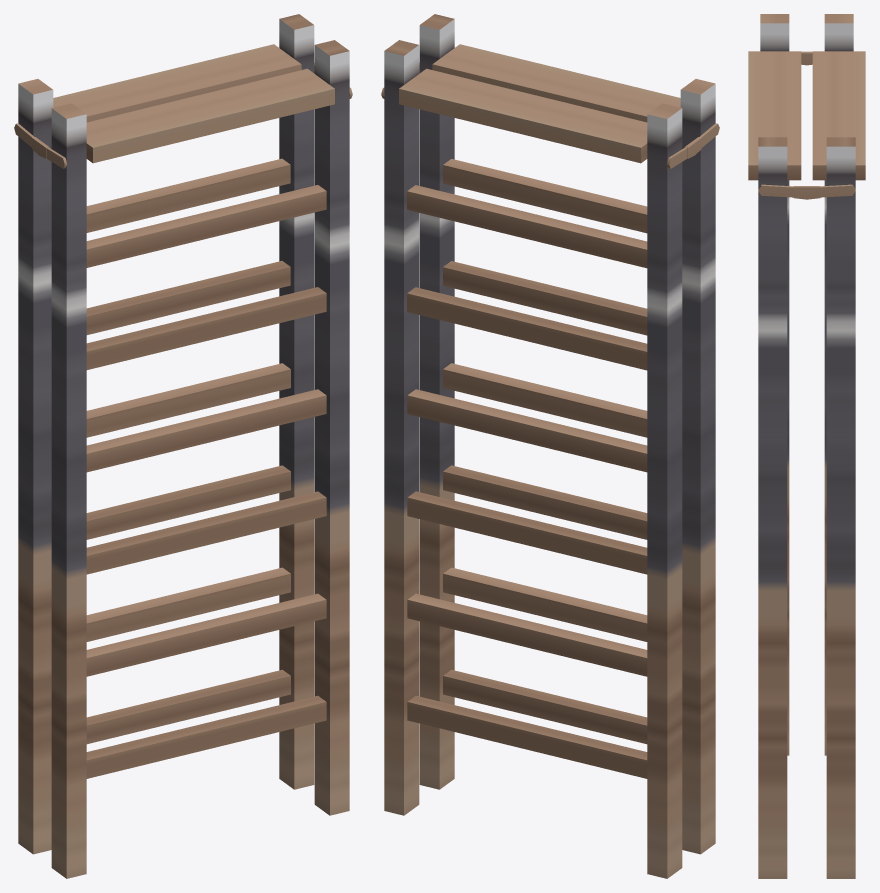
Rendered from objects_un_t03ladder01.gltf.
3 views of the same model, side by side, from view 1: azimuth 30°, elevation 25°; view 2: azimuth 150°, elevation 25°; view 3: azimuth 270°, elevation 25° (orthographic). The views are drawn at different scales.
Parts seen in each view (by area): view 1: objects_un_t03ladder01_mesh_shape:objects_un_t03farmtools01_; view 2: objects_un_t03ladder01_mesh_shape:objects_un_t03farmtools01_; view 3: objects_un_t03ladder01_mesh_shape:objects_un_t03farmtools01_.
Part boxes in pixels (x1,y1,x2,y2): objects_un_t03ladder01_mesh_shape:objects_un_t03farmtools01_: (14, 14, 352, 878); objects_un_t03ladder01_mesh_shape:objects_un_t03farmtools01_: (381, 14, 719, 878); objects_un_t03ladder01_mesh_shape:objects_un_t03farmtools01_: (748, 14, 865, 878).
Size of what is drawn, in the model's own units: 0.9549 by 2.4 by 0.349.
Materials: 1 (1 with a texture image).
